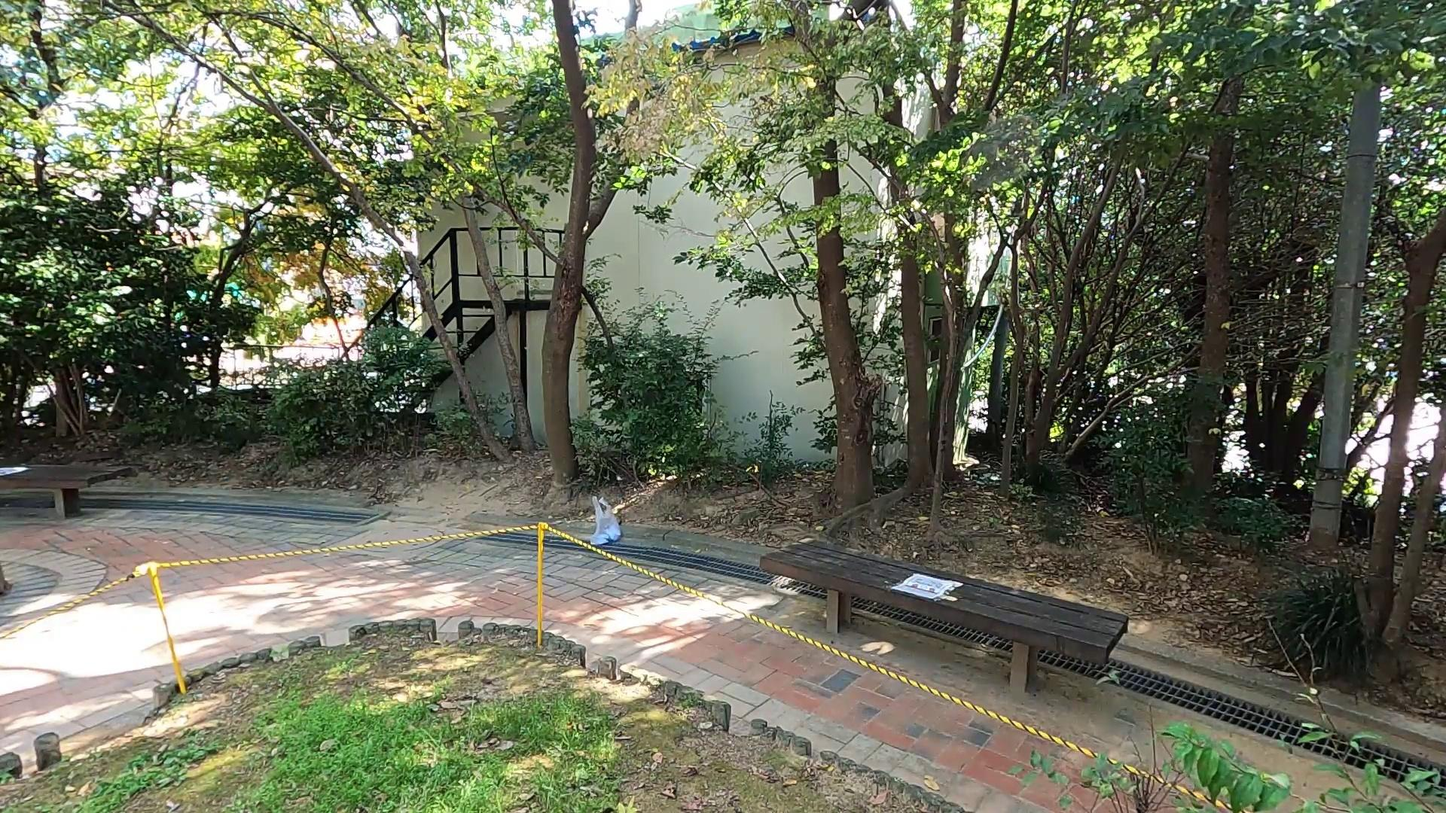trash: (585, 492, 624, 549)
